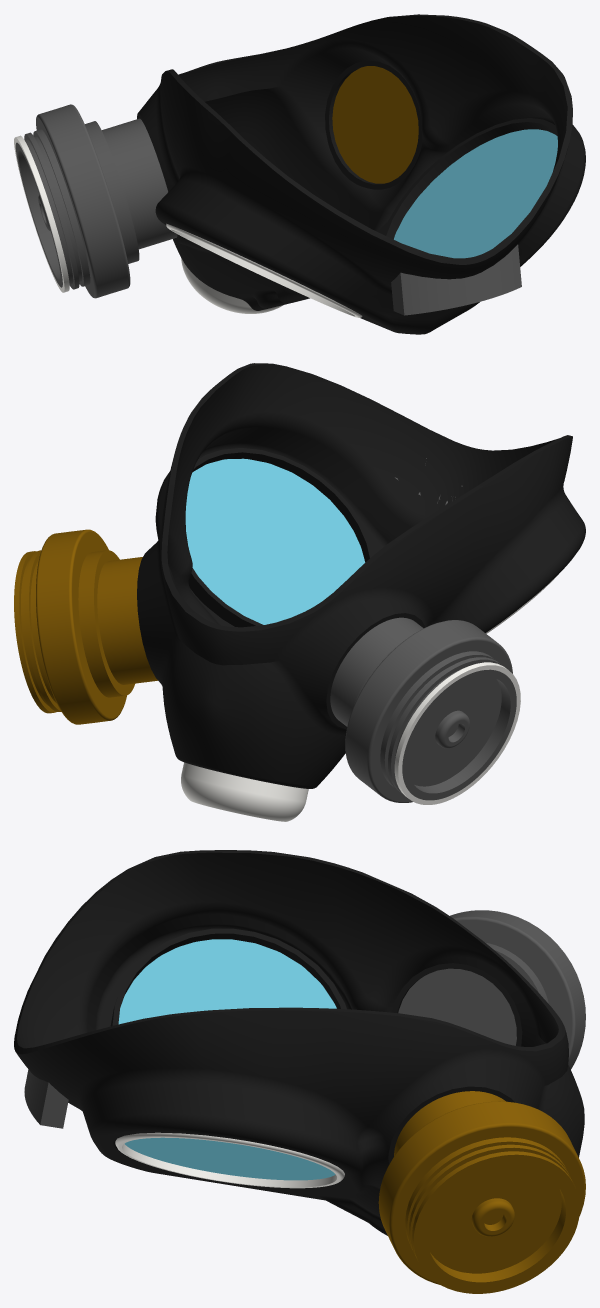
Rendered from GAS MASK v1.fbx.
The picture shows the model from 3 angles, top to bottom: view 1: azimuth 30°, elevation 25°; view 2: azimuth 150°, elevation 25°; view 3: azimuth 270°, elevation 25°; orthographic projection. The views are drawn at different scales.
Parts seen in each view (by area): view 1: Body1 (×13); view 2: Body1 (×17); view 3: Body1 (×16).
Boxes of the visible parts, <box> form: Body1 (×13): <box>14,14,585,334</box>; Body1 (×17): <box>14,363,585,821</box>; Body1 (×16): <box>14,850,585,1293</box>.
Size of the model in its own units: 0.2009 by 0.1264 by 0.1973.
